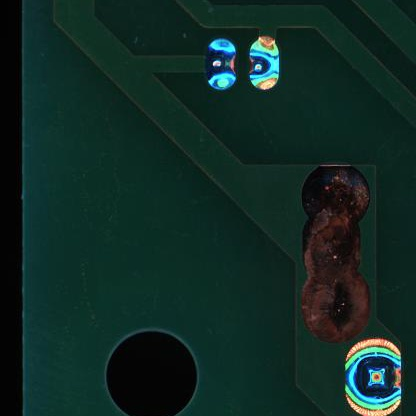spot: (344, 338, 404, 415), (248, 35, 280, 94), (205, 37, 238, 92)
